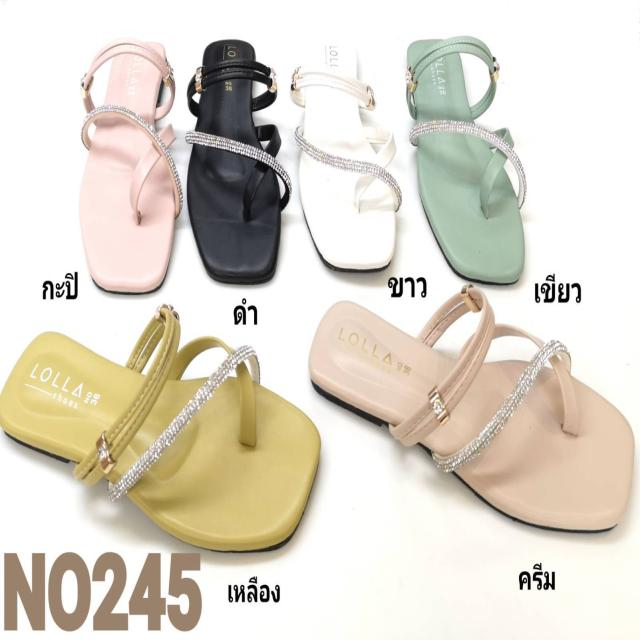black: (189, 38, 278, 277)
cream: (311, 296, 634, 534)
green: (402, 35, 529, 278)
kapi: (84, 38, 181, 290)
white: (294, 46, 394, 271)
yellow: (0, 328, 320, 572)
